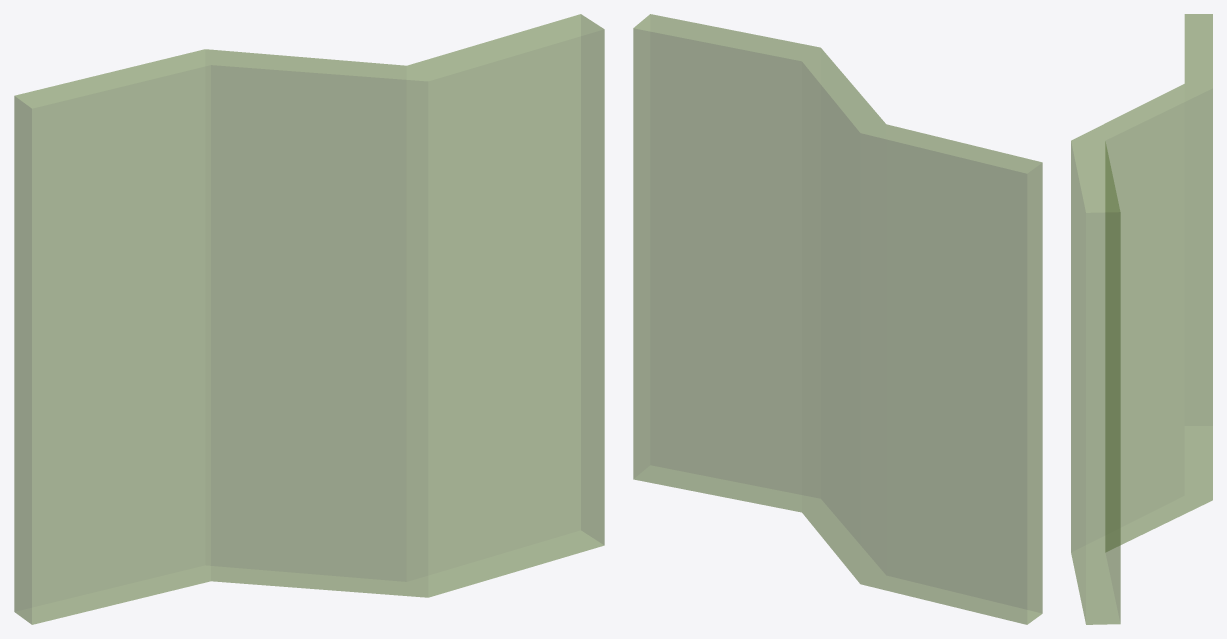
File: foldingscreen01_COL.fbx
3 views of the same model, side by side, from view 1: azimuth 30°, elevation 25°; view 2: azimuth 150°, elevation 25°; view 3: azimuth 270°, elevation 25° (orthographic). The views are drawn at different scales.
Parts seen in each view (by area): view 1: foldingscreen01_COL; view 2: foldingscreen01_COL; view 3: foldingscreen01_COL.
Boxes of the visible parts, left/top/right/bottom form: foldingscreen01_COL: left=14, top=14, right=604, bottom=624; foldingscreen01_COL: left=633, top=14, right=1042, bottom=624; foldingscreen01_COL: left=1071, top=14, right=1212, bottom=624.
Size of the model in its own units: 228 by 221 by 68.84.
